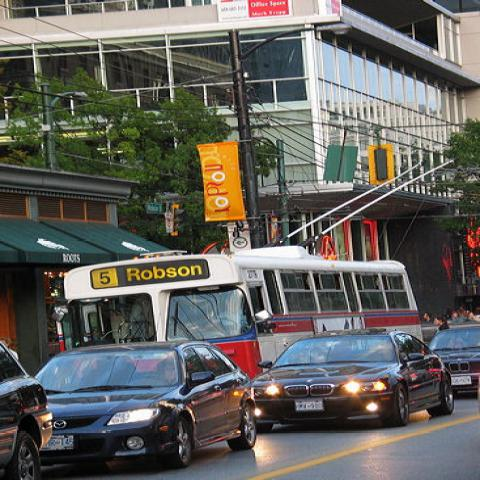bus: (65, 261, 430, 379)
car: (33, 340, 257, 470), (256, 331, 455, 420), (0, 342, 55, 474), (424, 321, 478, 394)
